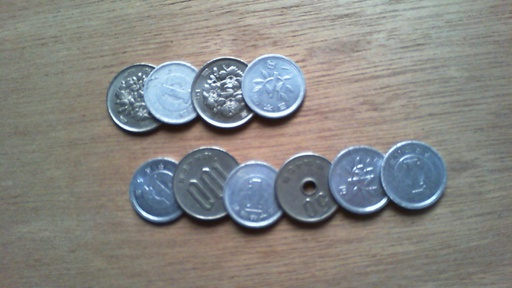100yen: (171, 146, 246, 221), (190, 56, 261, 129), (106, 63, 176, 133)
1yen: (379, 140, 447, 211), (327, 145, 394, 216), (223, 160, 287, 229), (241, 54, 305, 119), (143, 61, 207, 125), (129, 157, 189, 224)
50yen: (274, 152, 339, 224)
